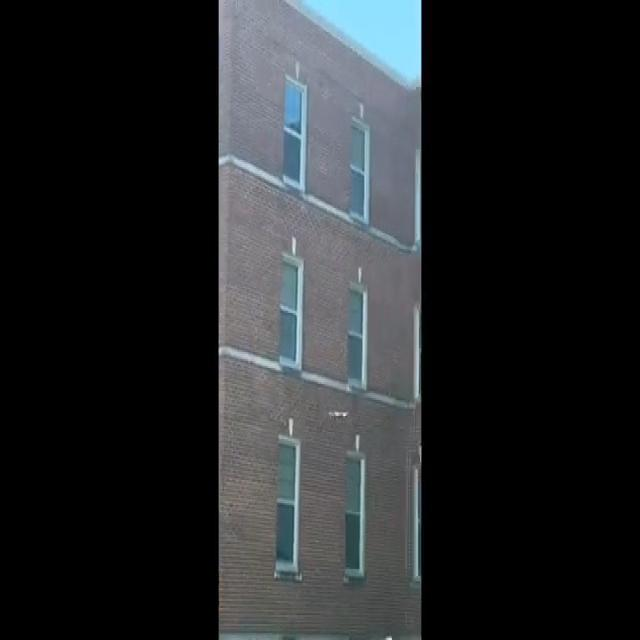drone: (322, 400, 355, 424)
